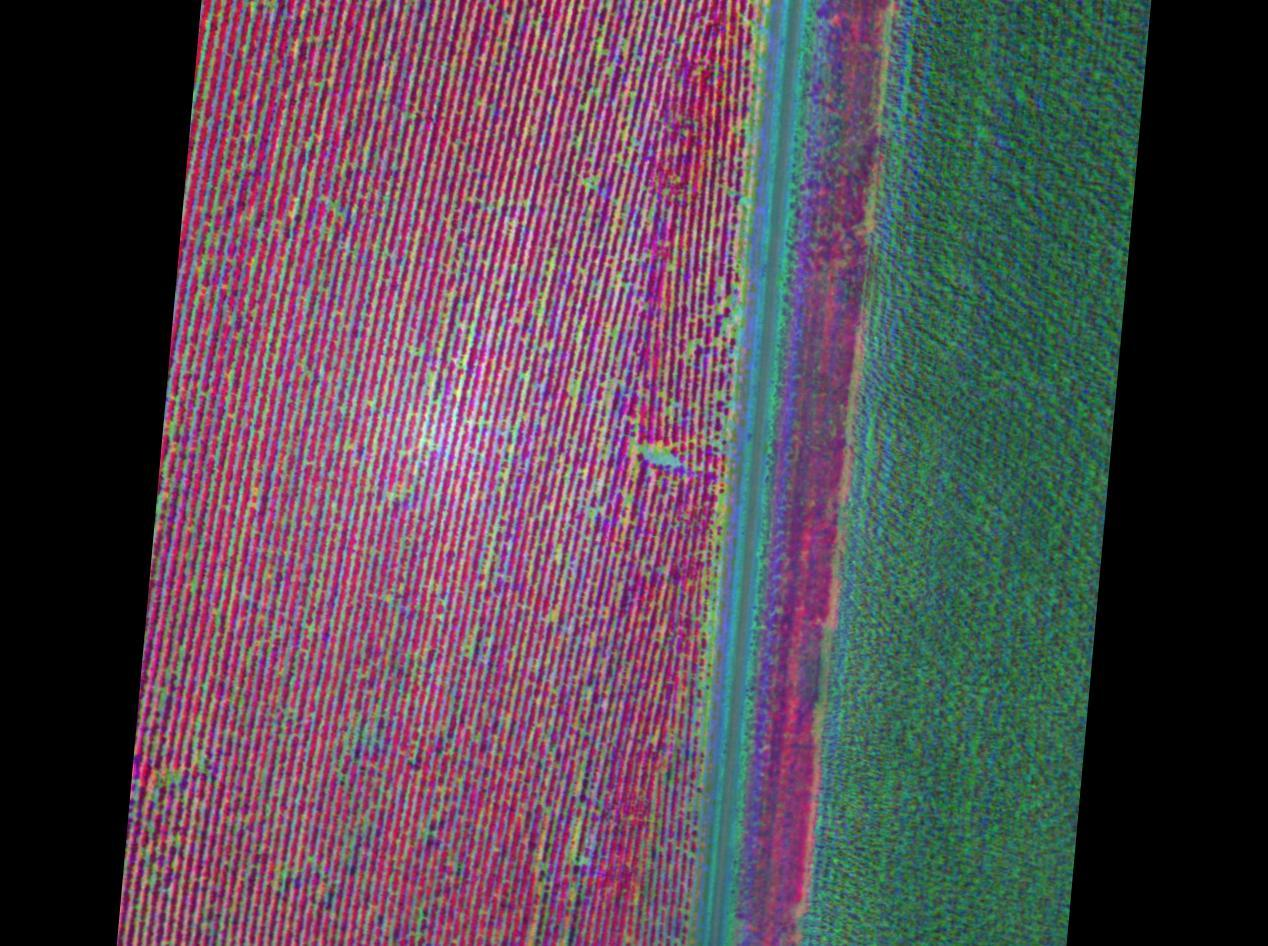dc: (643, 449, 651, 457), (664, 455, 671, 461), (429, 373, 435, 378), (525, 374, 529, 379), (388, 597, 392, 602), (341, 313, 345, 317), (590, 513, 594, 517), (485, 569, 489, 573), (192, 583, 196, 587), (463, 644, 467, 648), (163, 691, 166, 696), (176, 837, 179, 842), (626, 497, 629, 501)
